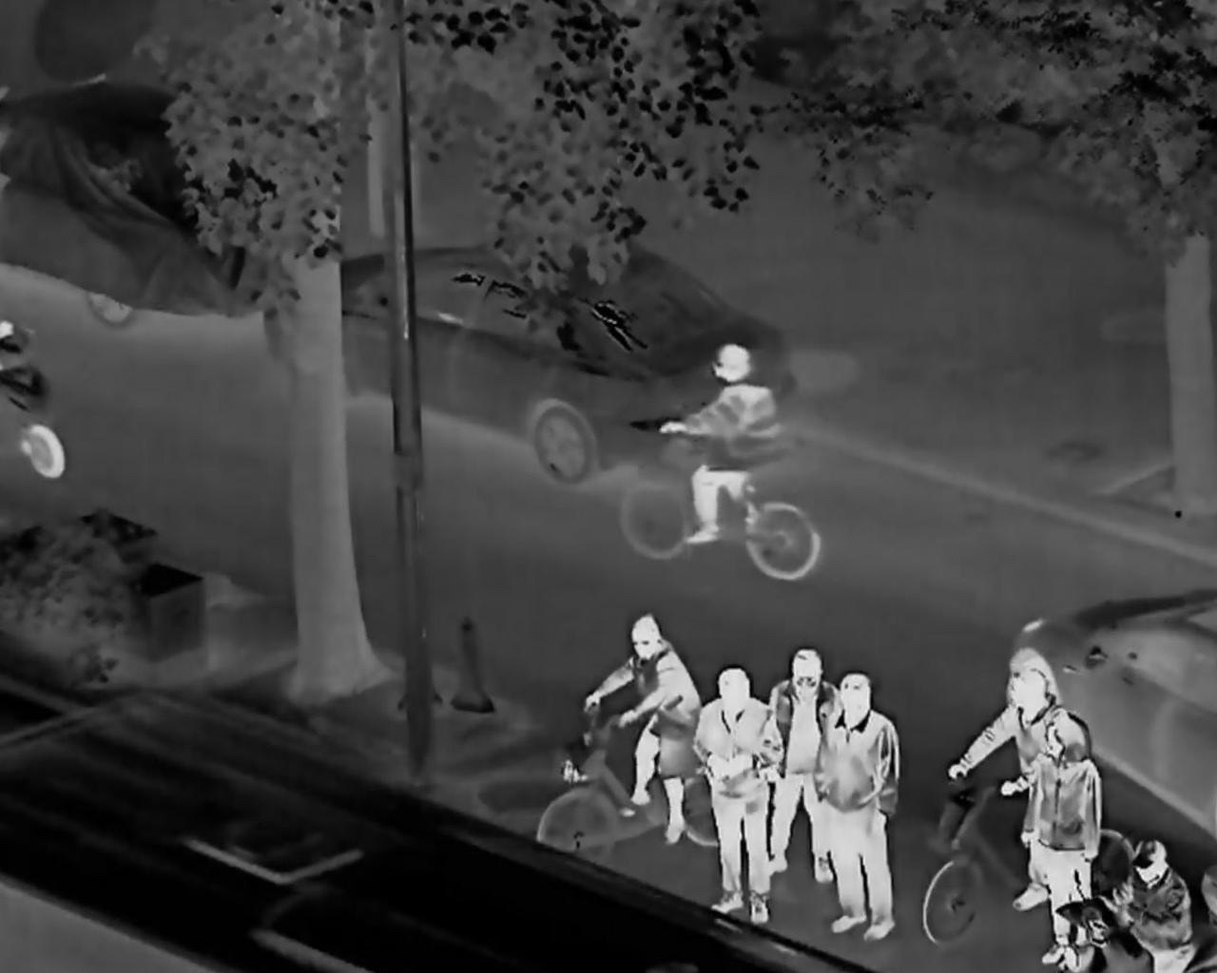person: (944, 670, 1077, 909), (581, 614, 703, 845), (658, 343, 781, 552), (817, 675, 899, 940), (697, 666, 781, 923), (761, 646, 842, 890), (1026, 720, 1104, 971), (1111, 838, 1198, 973)
